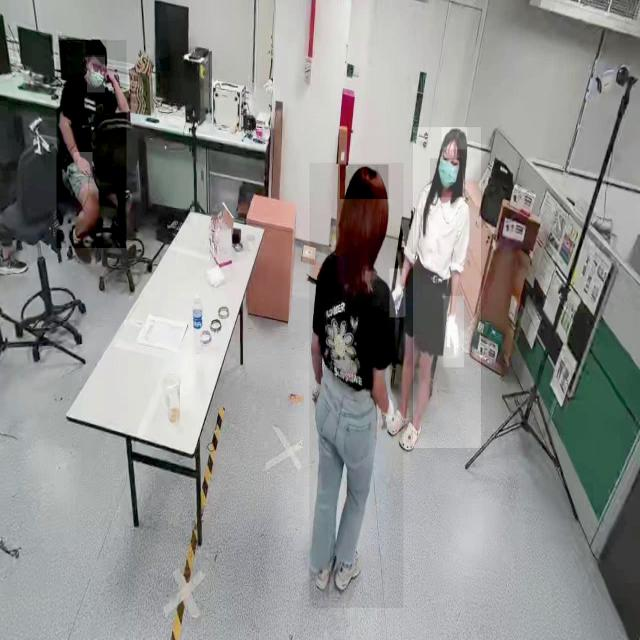face_mask: (430, 158, 462, 198), (87, 55, 105, 93)
hand_glove: (444, 296, 464, 368), (390, 268, 406, 318)
hand_noglove: (73, 152, 93, 177), (103, 68, 115, 85)
head_nohelmet: (340, 164, 389, 200), (442, 127, 468, 150), (86, 39, 108, 58)
person: (310, 163, 404, 609), (413, 127, 481, 449), (57, 40, 127, 249)
shoes: (334, 546, 364, 595), (311, 542, 336, 589)
